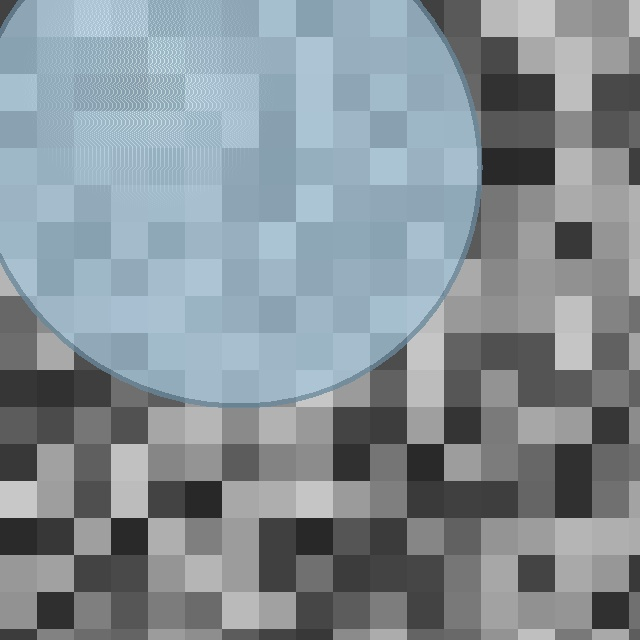lens: (0, 0, 479, 403)
